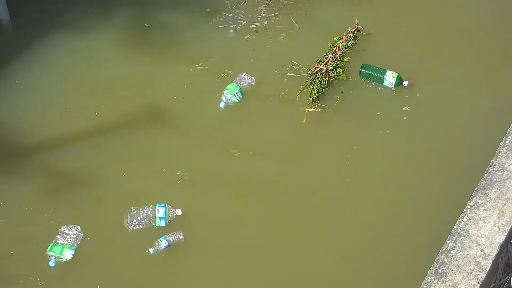plastic: (19, 225, 87, 266), (120, 204, 189, 231), (211, 74, 262, 107), (136, 230, 194, 259), (353, 71, 421, 91)
twig: (277, 16, 359, 112), (234, 0, 309, 27)
